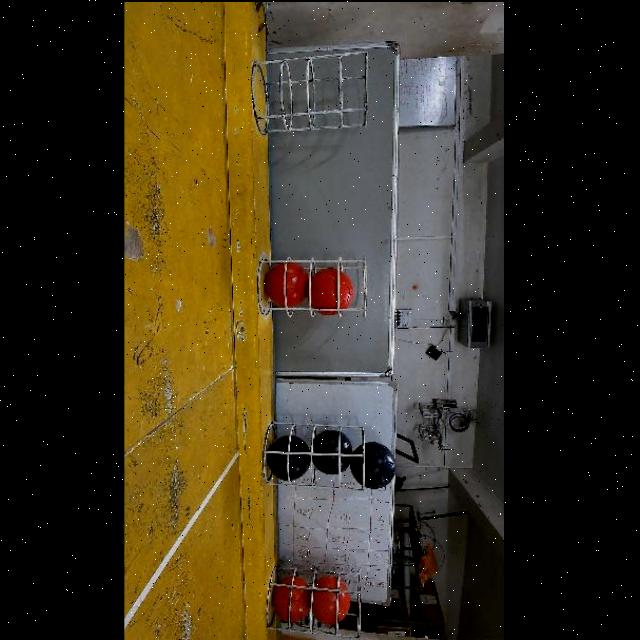P: (351, 440, 397, 487), (267, 435, 312, 481), (313, 428, 353, 474)
R: (311, 266, 356, 314), (271, 574, 312, 622), (265, 260, 308, 305), (313, 575, 352, 623)
S: (260, 54, 368, 132), (258, 254, 374, 320), (266, 424, 366, 486), (273, 574, 357, 638)
